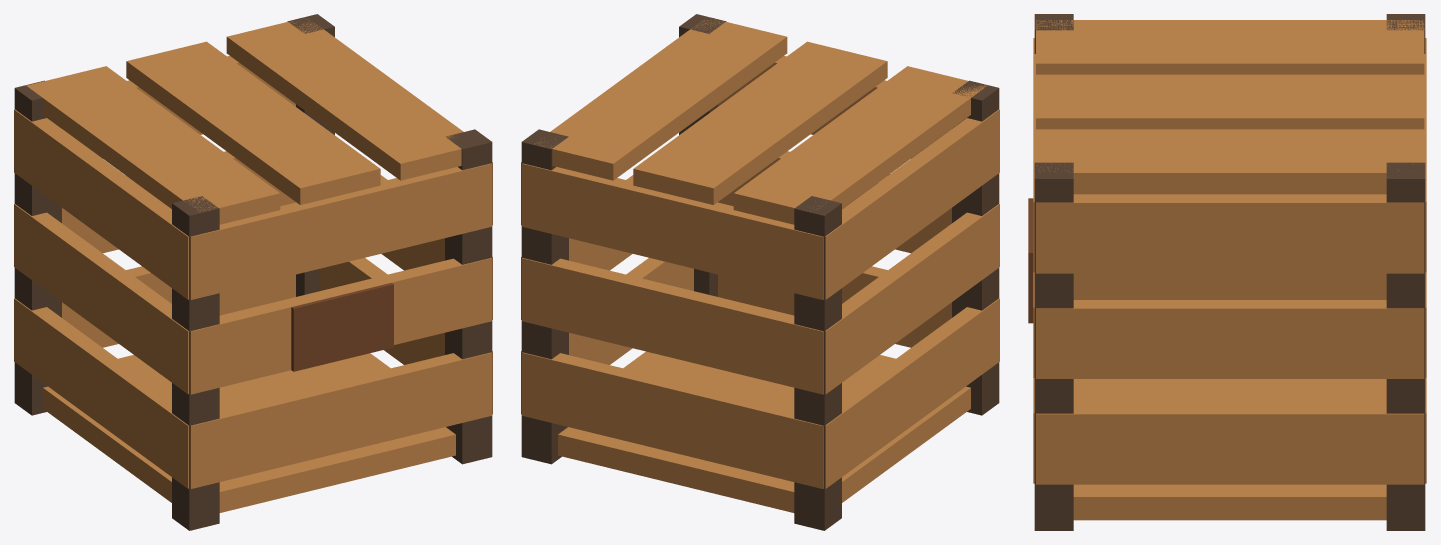
File: CatCafe_Alley_Crate.fbx
3 views of the same model, side by side, from view 1: azimuth 30°, elevation 25°; view 2: azimuth 150°, elevation 25°; view 3: azimuth 270°, elevation 25° (orthographic). The views are drawn at different scales.
Parts seen in each view (by area): view 1: CatCafe_Alley_Crate; view 2: CatCafe_Alley_Crate; view 3: CatCafe_Alley_Crate.
Part boxes in pixels (x1=…): CatCafe_Alley_Crate: x1=14, y1=14, x2=492, y2=530; CatCafe_Alley_Crate: x1=521, y1=14, x2=999, y2=530; CatCafe_Alley_Crate: x1=1028, y1=14, x2=1426, y2=530.
Bounding box in the file's own units: 1.52 × 1.5 × 1.54.
Materials: 1 (1 with a texture image).
